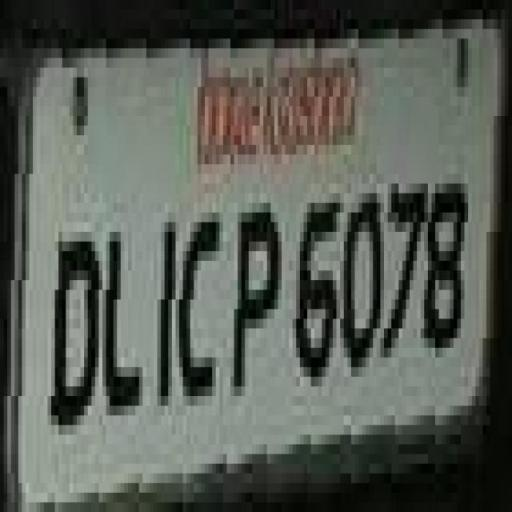number plate: (0, 67, 490, 512)
